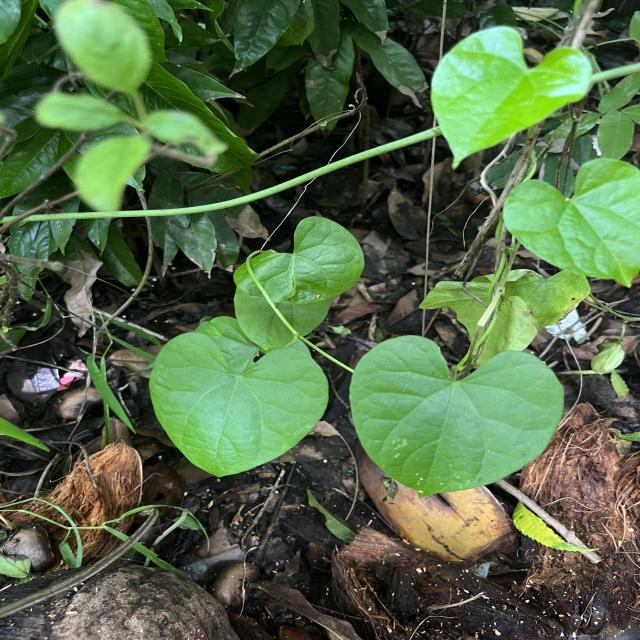Tinospora cordifolia: (346, 332, 567, 502), (145, 328, 331, 481), (428, 22, 595, 174)
